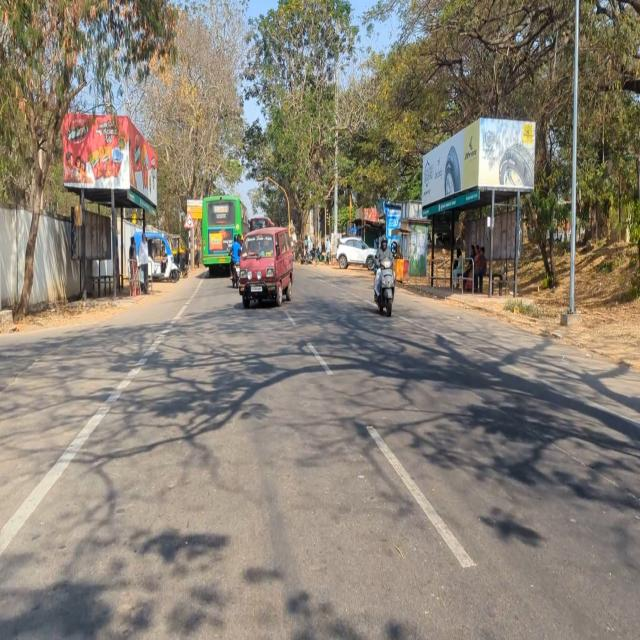bien_cam: (183, 210, 195, 230)
